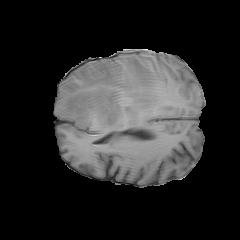glioma: (62, 56, 168, 130)
